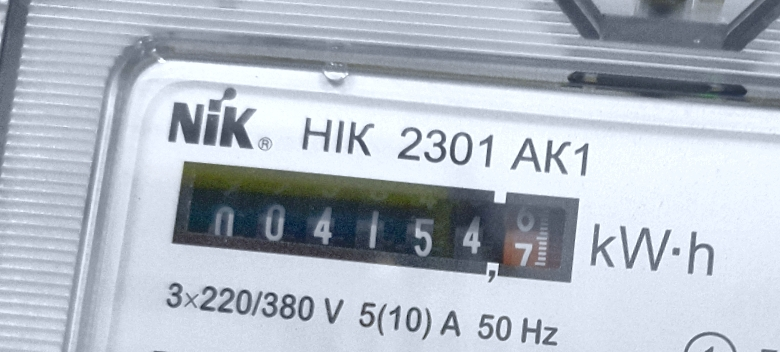0: (261, 199, 288, 243), (211, 200, 237, 236)
1: (365, 207, 382, 250)
4: (310, 202, 337, 246), (460, 210, 484, 255)
5: (409, 211, 438, 258)
6: (513, 201, 539, 233)
7: (510, 237, 534, 268)
screen: (155, 139, 598, 300)
